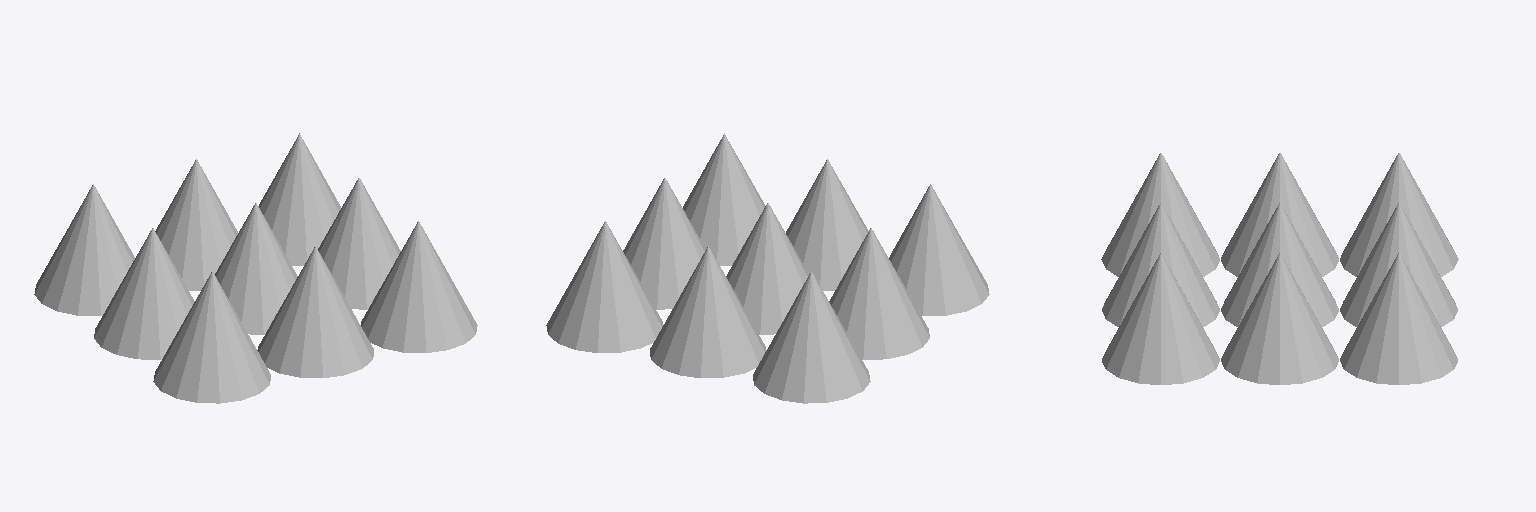
The model's file is Spikes.obj.
3 renders of one model, left to right at view 1: azimuth 30°, elevation 25°; view 2: azimuth 150°, elevation 25°; view 3: azimuth 270°, elevation 25°, orthographic.
Parts seen in each view (by area): view 1: Cone.002, Cone.008, Cone.003, Cone, Cone.001, Cone.005, Cone.006, Cone.007, Cone.004; view 2: Cone.001, Cone.007, Cone.004, Cone, Cone.002, Cone.005, Cone.006, Cone.008, Cone.003; view 3: Cone.008, Cone.007, Cone.006, Cone.002, Cone.001, Cone, Cone.005, Cone.004, Cone.003.
Boxes of the visible parts, <box> form: Cone.002: <box>153,271,270,403</box>; Cone.008: <box>361,221,477,352</box>; Cone.003: <box>257,246,373,377</box>; Cone: <box>94,228,194,359</box>; Cone.001: <box>34,184,134,315</box>; Cone.005: <box>215,203,297,334</box>; Cone.006: <box>318,178,400,309</box>; Cone.007: <box>259,133,340,265</box>; Cone.004: <box>155,159,237,290</box>; Cone.001: <box>753,271,870,403</box>; Cone.007: <box>546,221,662,352</box>; Cone.004: <box>650,246,766,377</box>; Cone: <box>829,228,929,359</box>; Cone.002: <box>889,184,989,315</box>; Cone.005: <box>726,203,808,334</box>; Cone.006: <box>623,178,705,309</box>; Cone.008: <box>683,133,764,265</box>; Cone.003: <box>786,159,868,290</box>; Cone.008: <box>1102,253,1219,384</box>; Cone.007: <box>1340,253,1457,384</box>; Cone.006: <box>1221,253,1338,384</box>; Cone.002: <box>1101,153,1219,276</box>; Cone.001: <box>1340,153,1458,276</box>; Cone: <box>1221,153,1338,276</box>; Cone.005: <box>1221,203,1338,326</box>; Cone.004: <box>1340,203,1457,326</box>; Cone.003: <box>1102,203,1219,326</box>.
Bounding box in the file's own units: 6 × 2 × 6.